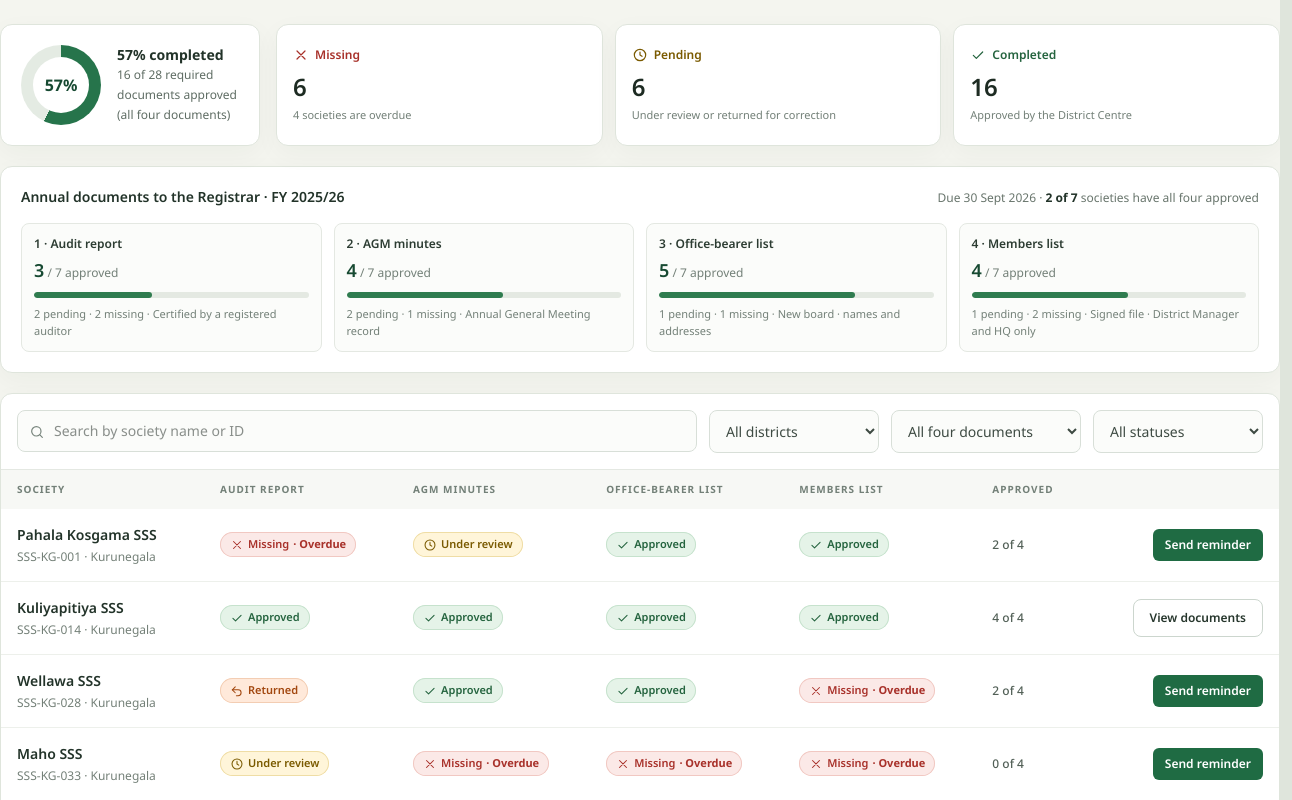
Test: ComplianceOverview › filters by clicking a status card
Click the button "Missing 6 4 societies are overdue" at (337, 54), box x1=276 y1=24 x2=603 y2=146
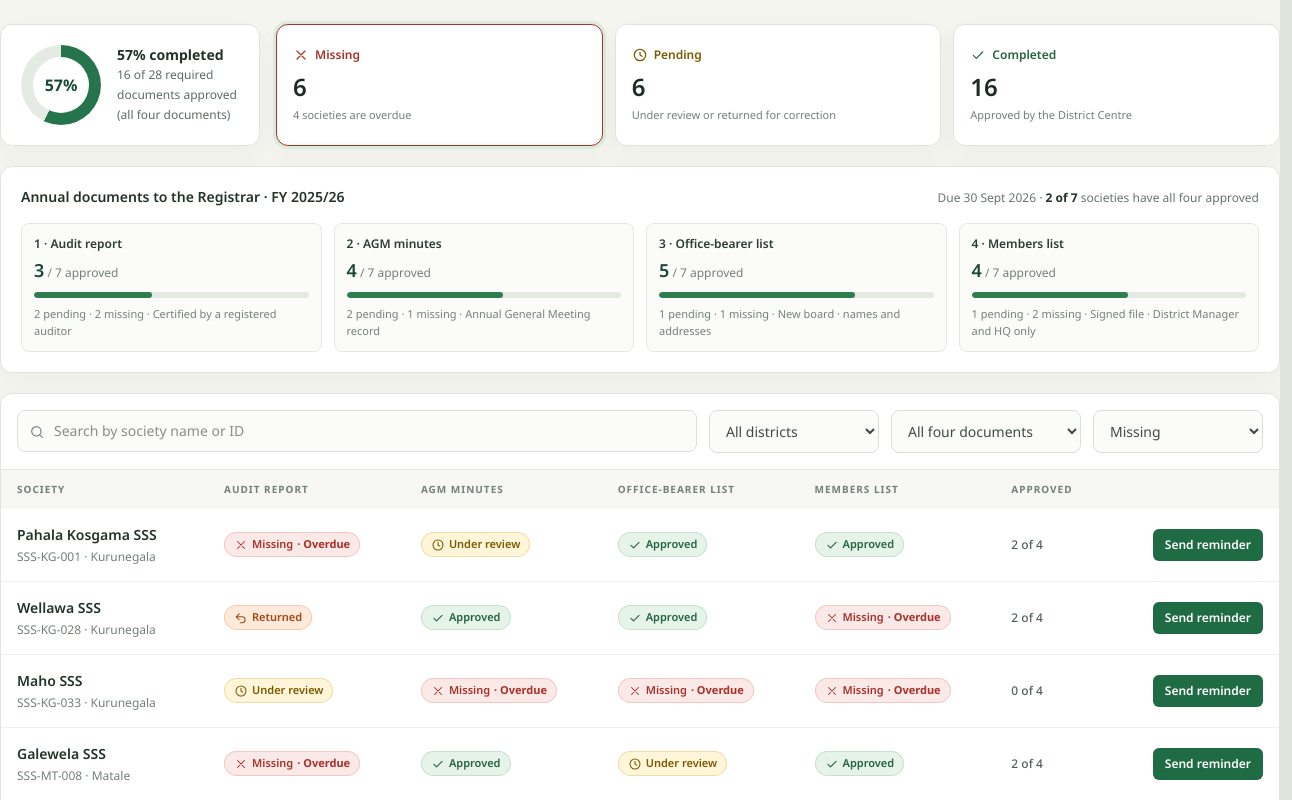
expect the link "Kuliyapitiya" is gone: met
